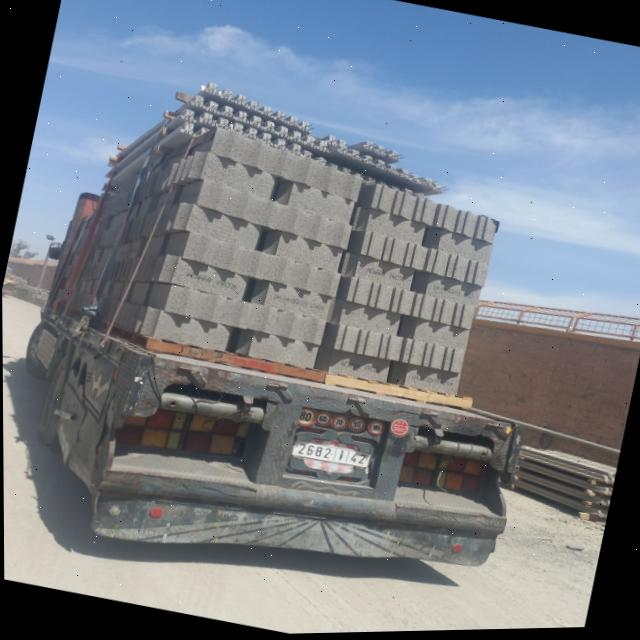bricks: (51, 88, 497, 395)
